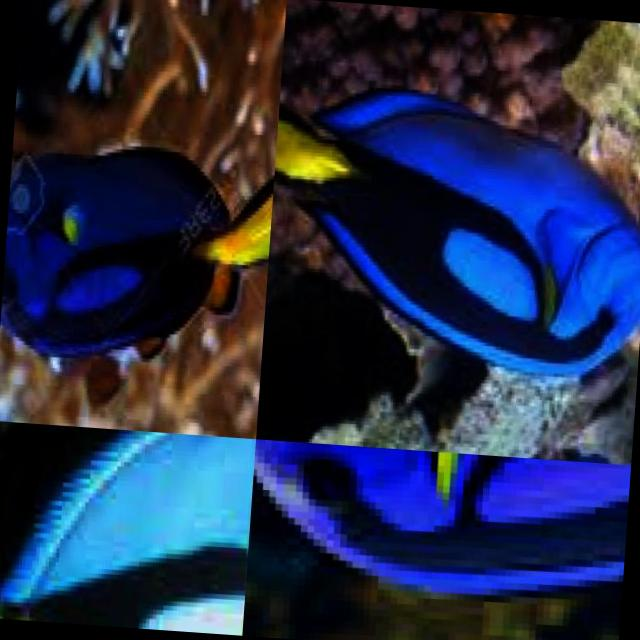BlueTang: (260, 84, 640, 387), (244, 438, 630, 610), (0, 134, 271, 375), (0, 419, 254, 635)
